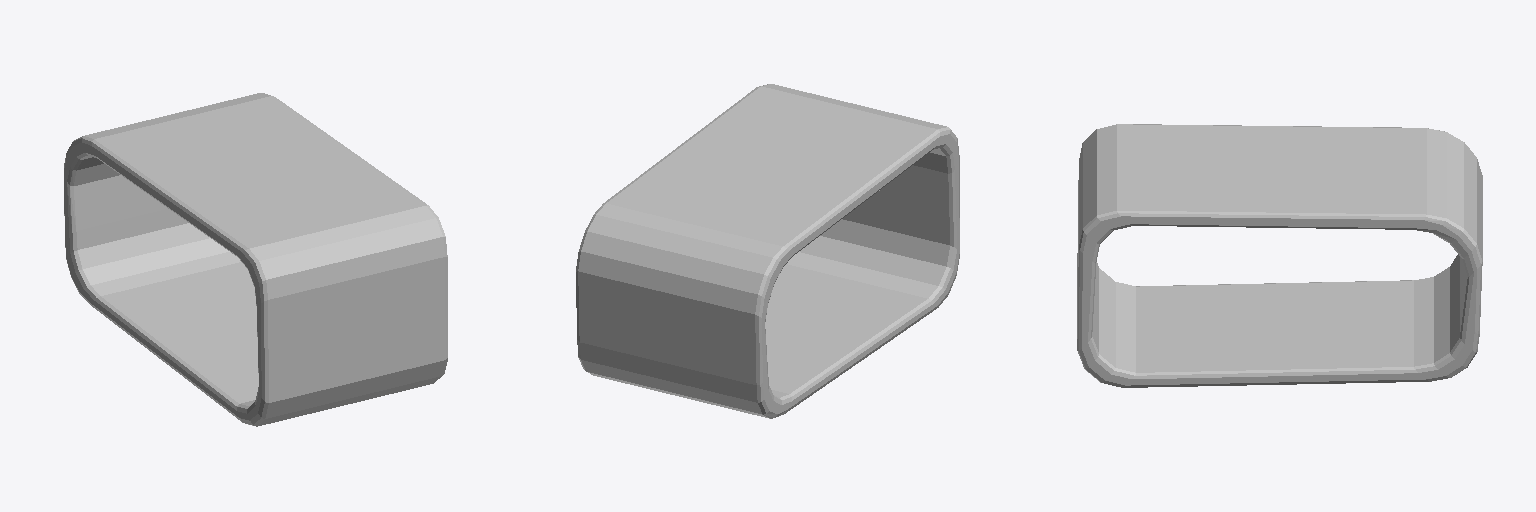
Rendered from PadOne.obj.
The picture shows the model from 3 angles: view 1: azimuth 30°, elevation 25°; view 2: azimuth 150°, elevation 25°; view 3: azimuth 270°, elevation 25°; orthographic projection.
Parts seen in each view (by area): view 1: default_0; view 2: default_0; view 3: default_0.
Part boxes in pixels (left/top/right/bottom): default_0: left=64, top=93, right=447, bottom=426; default_0: left=576, top=84, right=959, bottom=418; default_0: left=1077, top=124, right=1482, bottom=387.
Bounding box in the file's own units: 0.0499 × 0.0454 × 0.0941.